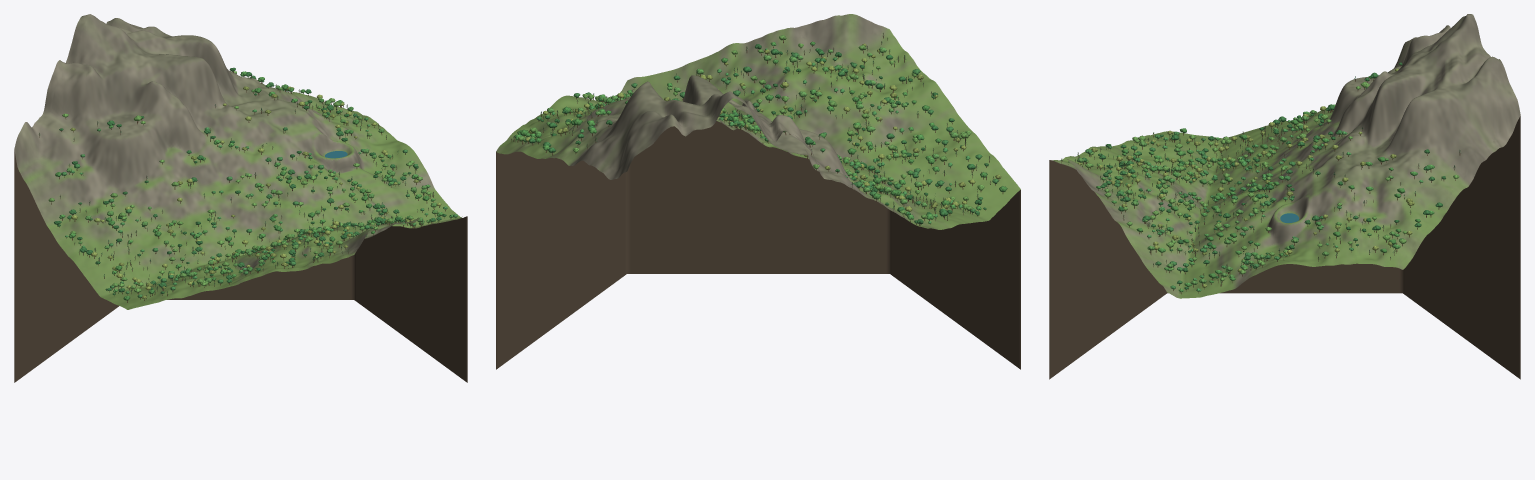
The picture shows the model from 3 angles, left to right: view 1: azimuth 30°, elevation 25°; view 2: azimuth 150°, elevation 25°; view 3: azimuth 270°, elevation 25°; orthographic projection. The views are drawn at different scales.
Visible parts, largest first — view 1: terrain, hex_side_cut, broadleaf_canopy, trunks, conifer_canopy; view 2: hex_side_cut, terrain, broadleaf_canopy, trunks, conifer_canopy; view 3: terrain, hex_side_cut, broadleaf_canopy, trunks, conifer_canopy.
Part boxes in pixels (left/top/right/bottom): terrain: left=14, top=14, right=462, bottom=309; hex_side_cut: left=14, top=150, right=467, bottom=382; broadleaf_canopy: left=48, top=67, right=457, bottom=300; trunks: left=39, top=71, right=455, bottom=302; conifer_canopy: left=39, top=73, right=451, bottom=294; hex_side_cut: left=496, top=121, right=1020, bottom=369; terrain: left=496, top=14, right=1020, bottom=229; broadleaf_canopy: left=514, top=35, right=1007, bottom=224; trunks: left=511, top=33, right=1003, bottom=225; conifer_canopy: left=511, top=33, right=993, bottom=218; terrain: left=1053, top=14, right=1520, bottom=298; hex_side_cut: left=1049, top=116, right=1520, bottom=379; broadleaf_canopy: left=1077, top=62, right=1459, bottom=292; trunks: left=1061, top=65, right=1460, bottom=294; conifer_canopy: left=1060, top=76, right=1460, bottom=288.
Size of the model in its own units: 4330 by 3895 by 5000.
Materials: 7 (1 with a texture image).
